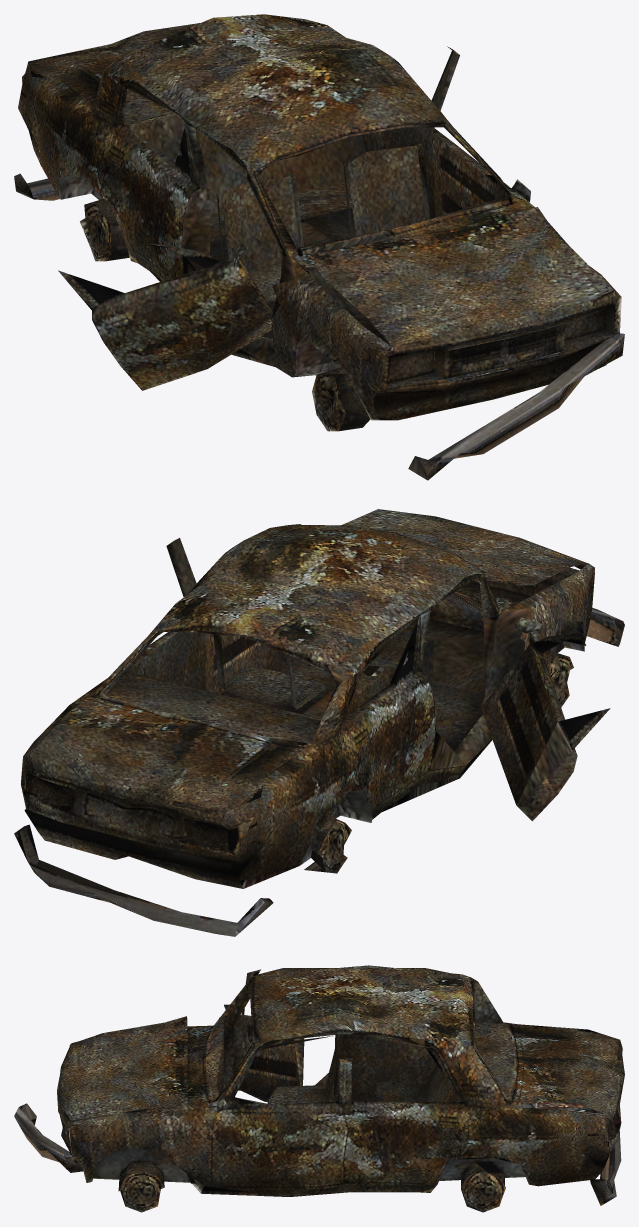
File: car2.FBX
3 views of the same model, one above another, from view 1: azimuth 30°, elevation 25°; view 2: azimuth 150°, elevation 25°; view 3: azimuth 270°, elevation 25° (orthographic). The views are drawn at different scales.
Visible parts, largest first — view 1: car2; view 2: car2; view 3: car2.
Boxes of the visible parts, <box> form: car2: <box>14,14,624,480</box>; car2: <box>14,509,624,936</box>; car2: <box>14,965,624,1212</box>.
Size of the model in its own units: 1.19 by 0.6846 by 2.
1 material, 1 textured.
